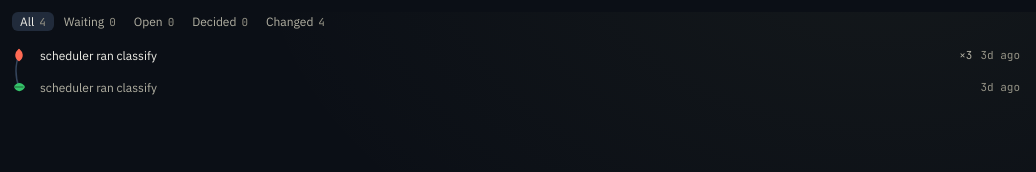
Test case: LivingMap › folds back-to-back identical runs into one row that counts them
This screenshot has width=1036, height=172.
Check: the number of list items is 2, box [12,39,1020,71]; [12,78,1020,96]
Check: the text with class "living-map-times" reads "×3", box [959,48,972,62]
Click the button named "Run, Failed, 3 times: scheduler ran classify".
click(95, 55)  # box [34,46,951,64]
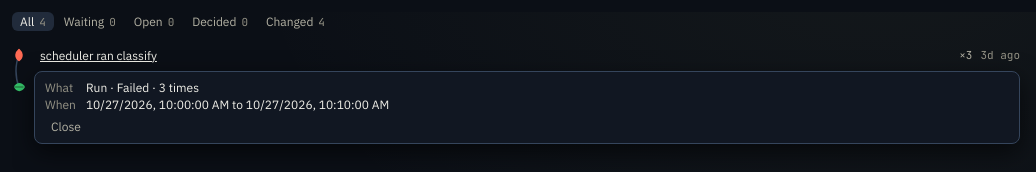
Check: the element named "Details: scheduler ran classify" shows "3 times", box [149,80,199,95]
